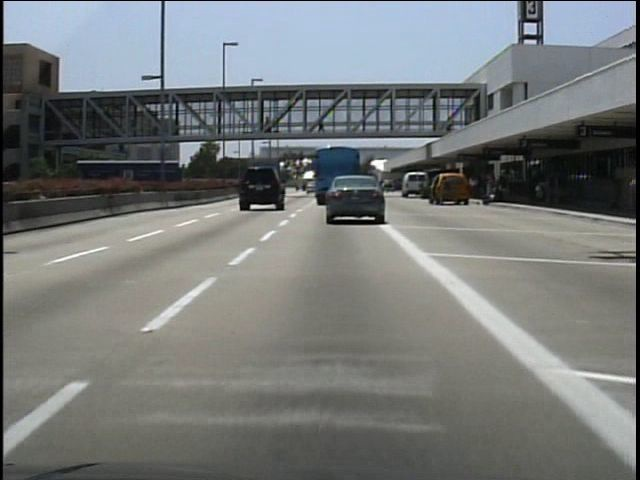person: (440, 177, 457, 213), (260, 113, 275, 135), (315, 115, 328, 140)
